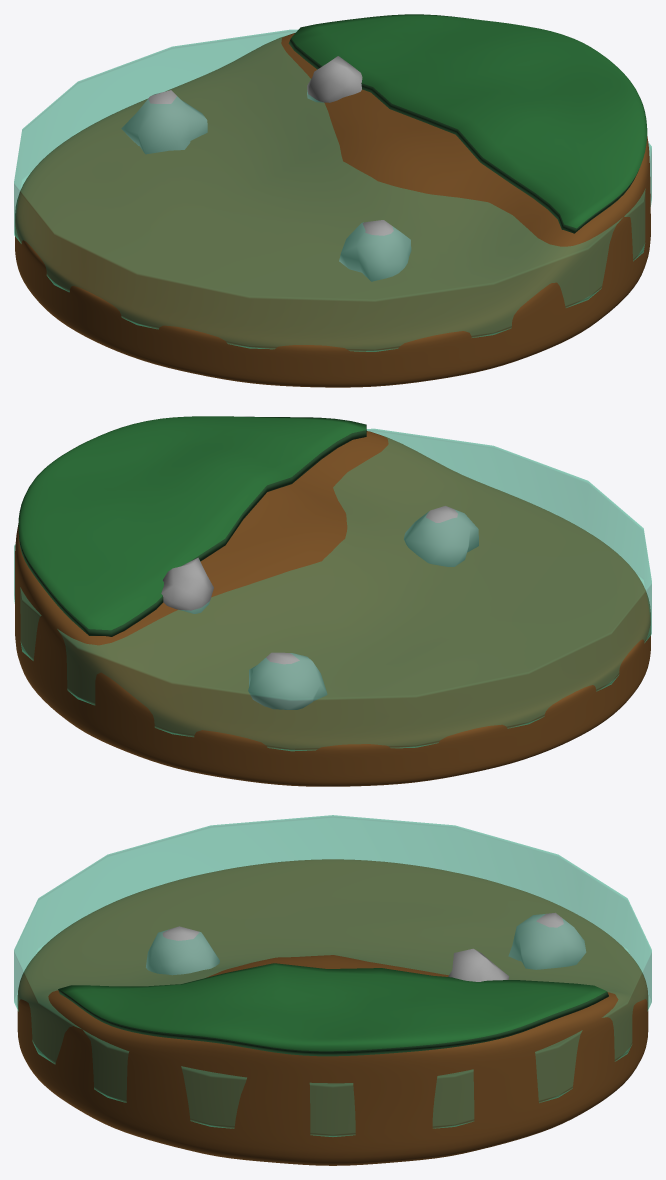
The model's file is pond.glb.
3 renders of one model, top to bottom at view 1: azimuth 30°, elevation 25°; view 2: azimuth 150°, elevation 25°; view 3: azimuth 270°, elevation 25°, orthographic.
Parts seen in each view (by area): view 1: Cylinder, Cylinder.001, Cylinder.002, Stone.001, Stone, Stone.002; view 2: Cylinder, Cylinder.001, Cylinder.002, Stone.001, Stone, Stone.002; view 3: Cylinder, Cylinder.001, Cylinder.002, Stone.001, Stone, Stone.002.
Boxes of the visible parts, <box> form: Cylinder: <box>15,33,650,387</box>; Cylinder.001: <box>14,29,651,351</box>; Cylinder.002: <box>288,14,647,233</box>; Stone.001: <box>121,90,207,154</box>; Stone: <box>339,220,411,281</box>; Stone.002: <box>307,56,362,102</box>; Cylinder: <box>15,431,650,786</box>; Cylinder.001: <box>14,428,651,751</box>; Cylinder.002: <box>18,416,366,636</box>; Stone.001: <box>248,652,327,709</box>; Stone: <box>404,506,478,566</box>; Stone.002: <box>161,557,213,613</box>; Cylinder: <box>17,859,648,1165</box>; Cylinder.001: <box>14,815,651,1136</box>; Cylinder.002: <box>58,963,608,1056</box>; Stone.001: <box>508,912,585,969</box>; Stone: <box>146,926,219,975</box>; Stone.002: <box>448,948,508,981</box>.
Size of the model in its own units: 10.38 by 2.47 by 10.38.
